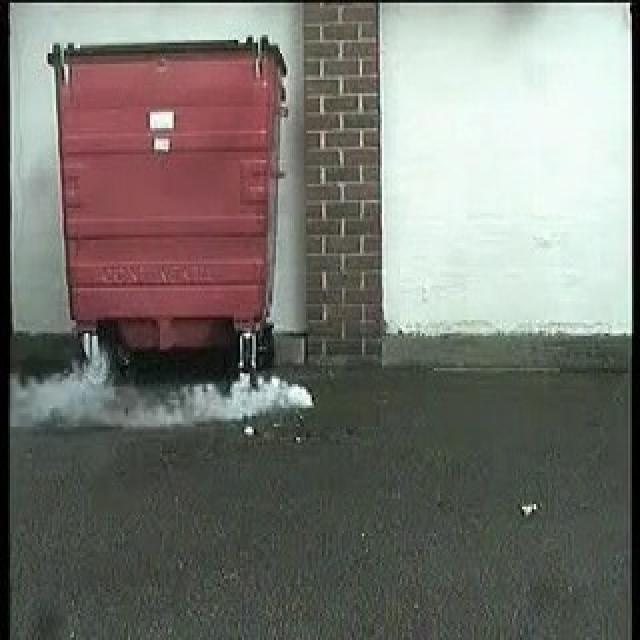Smoke: (11, 355, 312, 427)
